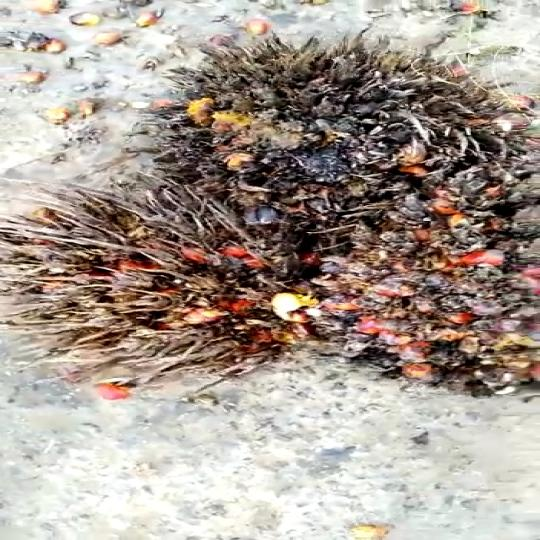terlalu masak: (128, 51, 538, 225), (0, 179, 336, 365), (248, 206, 540, 389)
